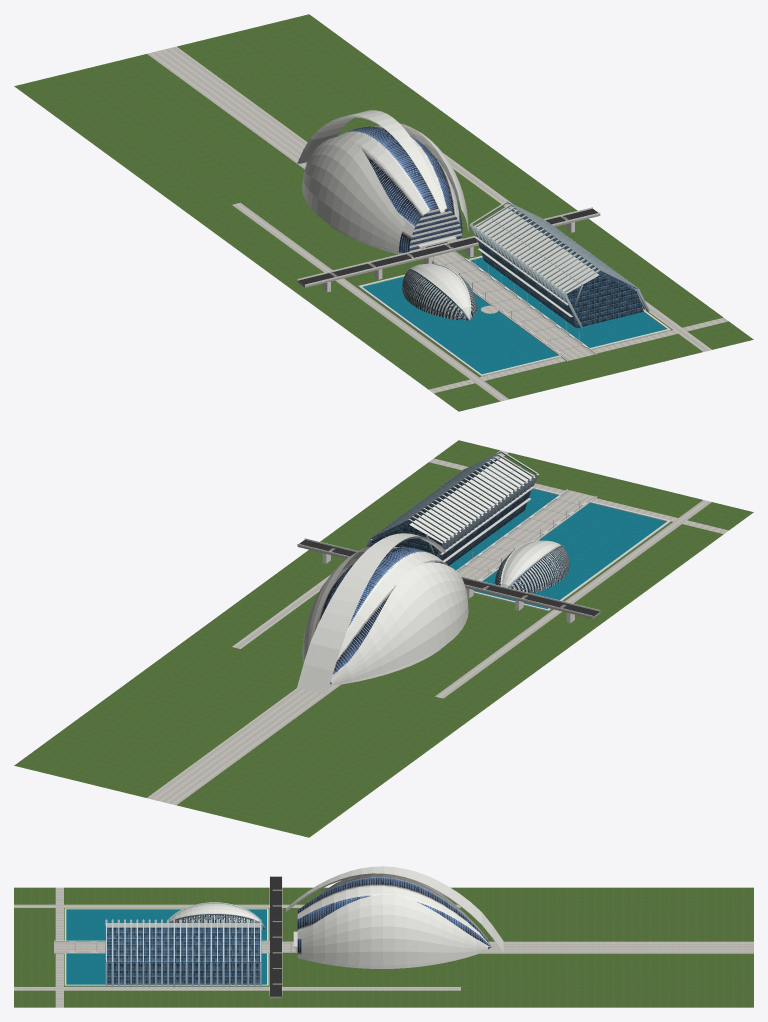
File: lugar-valencia.glb
3 views of the same model, one above another, from view 1: azimuth 30°, elevation 25°; view 2: azimuth 150°, elevation 25°; view 3: azimuth 270°, elevation 25° (orthographic). The views are drawn at different scales.
Parts seen in each view (by area): view 1: luzG-cerca, luzE, vert-cerca, suelo-paseo; view 2: luzG-cerca, luzE, vert-cerca, suelo-paseo; view 3: luzG-cerca, luzE, vert-cerca, suelo-paseo.
Part boxes in pixels (x1,y1,x2,y2): luzG-cerca: (14,14,753,411); luzE: (297,110,670,376); vert-cerca: (407,201,649,347); suelo-paseo: (432,251,595,360); luzG-cerca: (14,440,753,837); luzE: (297,457,670,694); vert-cerca: (365,451,579,597); suelo-paseo: (457,490,595,580); luzG-cerca: (14,887,753,1007); luzE: (54,866,503,998); vert-cerca: (105,902,264,987); suelo-paseo: (54,941,297,952).
Size of the model in its own units: 184 by 56.63 by 480.
Materials: 12 (11 with a texture image).
